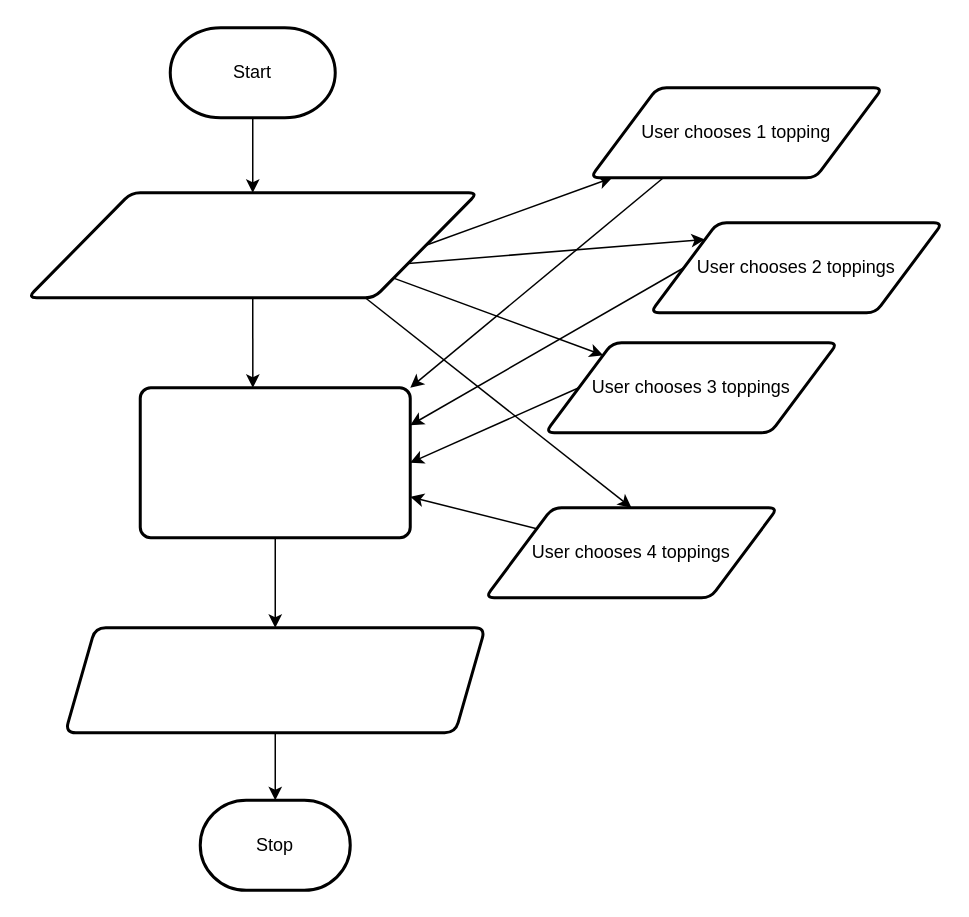
This 969x917 diagram has some shape labels left out. Here are the shapes that lost their labels. From the top down, the box of each, then its label:
(26, 190, 478, 298): User chooses large of extra large pizza
(138, 386, 411, 538): User pays tax (13%)
(63, 626, 486, 734): Program displays subtotal, tax and final cost
